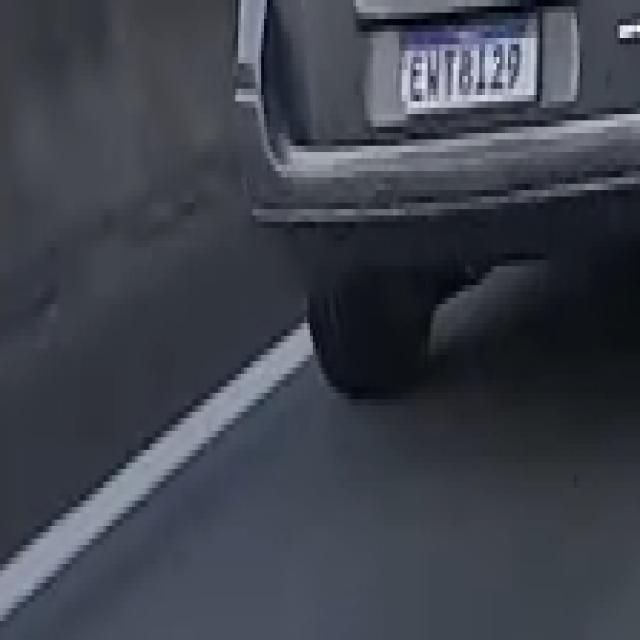Placa_mercosul_carro: (397, 9, 542, 115)
